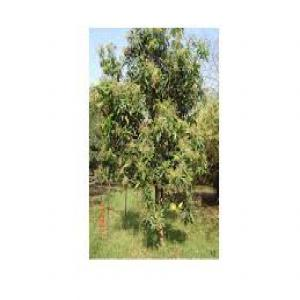Tree: (89, 28, 214, 244)
